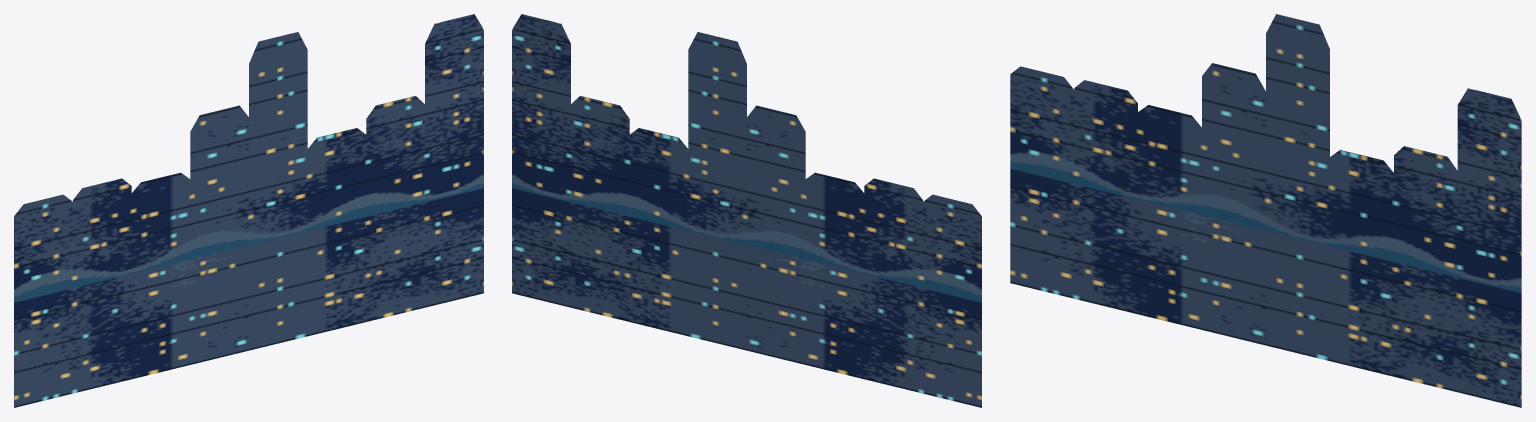
File: cysky.near.glb
3 views of the same model, side by side, from view 1: azimuth 30°, elevation 25°; view 2: azimuth 150°, elevation 25°; view 3: azimuth 330°, elevation 25° (orthographic). The views are drawn at different scales.
Visible parts, largest first — view 1: kit_card_skyline; view 2: kit_card_skyline; view 3: kit_card_skyline.
Part boxes in pixels (x1=…): kit_card_skyline: x1=14, y1=14, x2=483, y2=407; kit_card_skyline: x1=512, y1=14, x2=981, y2=407; kit_card_skyline: x1=1010, y1=14, x2=1521, y2=407.
Bounding box in the file's own units: 56 × 34.96 × 0.
Materials: 1 (1 with a texture image).
